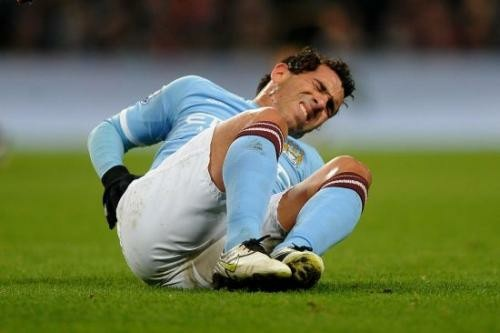falling: (78, 33, 366, 302)
